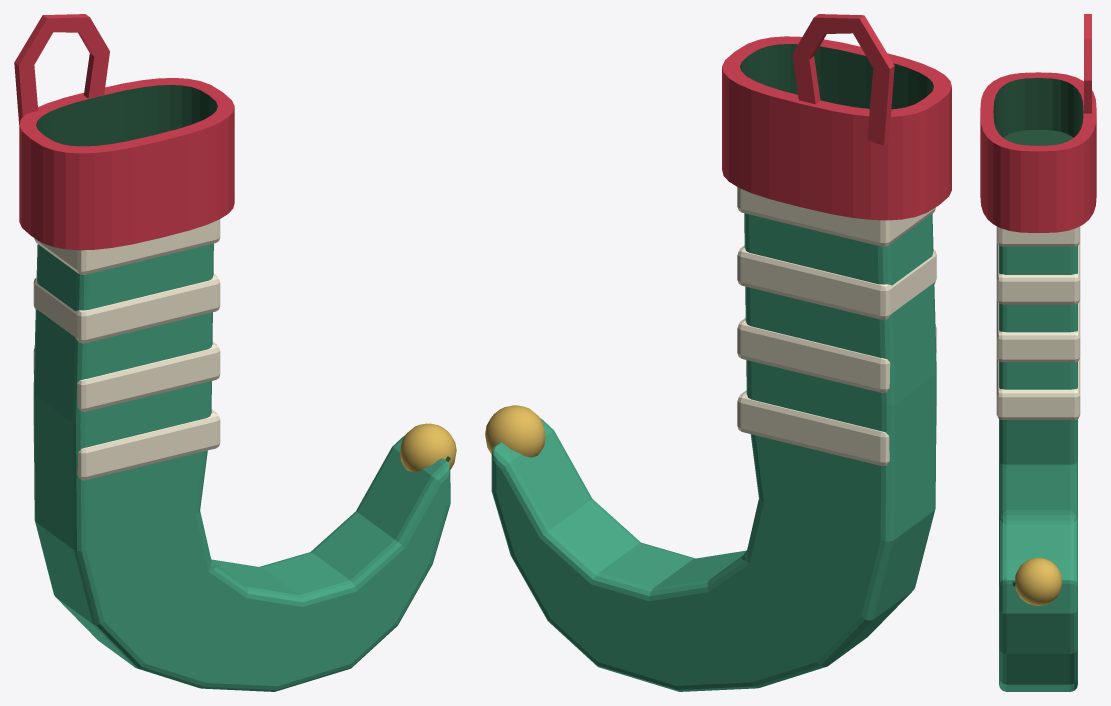
Rendered from christmas_stocking_striped_elf.glb.
3 renders of one model, left to right at view 1: azimuth 30°, elevation 25°; view 2: azimuth 150°, elevation 25°; view 3: azimuth 270°, elevation 25°, orthographic. The views are drawn at different scales.
Parts seen in each view (by area): view 1: ElfStocking_Curled_Toe_Body, ElfStocking_Open_Cuff, ElfStocking_Raised_Knit_Stripe.002, ElfStocking_Raised_Knit_Stripe.001, ElfStocking_Raised_Knit_Stripe, ElfStocking_Attached_Hanging_Loop, ElfStocking_Raised_Knit_Stripe.003, ElfStocking_Connected_Toe_Bell; view 2: ElfStocking_Curled_Toe_Body, ElfStocking_Open_Cuff, ElfStocking_Raised_Knit_Stripe.002, ElfStocking_Raised_Knit_Stripe.001, ElfStocking_Raised_Knit_Stripe, ElfStocking_Attached_Hanging_Loop, ElfStocking_Raised_Knit_Stripe.003, ElfStocking_Connected_Toe_Bell; view 3: ElfStocking_Curled_Toe_Body, ElfStocking_Open_Cuff, ElfStocking_Raised_Knit_Stripe, ElfStocking_Raised_Knit_Stripe.001, ElfStocking_Raised_Knit_Stripe.002, ElfStocking_Connected_Toe_Bell, ElfStocking_Raised_Knit_Stripe.003, ElfStocking_Recessed_Interior, ElfStocking_Attached_Hanging_Loop.
Part boxes in pixels (box(x1,y1,x2,y2)): ElfStocking_Curled_Toe_Body: box(33, 243, 450, 691); ElfStocking_Open_Cuff: box(19, 78, 234, 250); ElfStocking_Raised_Knit_Stripe.002: box(33, 274, 220, 343); ElfStocking_Raised_Knit_Stripe.001: box(33, 342, 220, 411); ElfStocking_Raised_Knit_Stripe: box(33, 409, 220, 480); ElfStocking_Attached_Hanging_Loop: box(14, 14, 109, 124); ElfStocking_Raised_Knit_Stripe.003: box(34, 219, 220, 274); ElfStocking_Connected_Toe_Bell: box(400, 423, 456, 472); ElfStocking_Curled_Toe_Body: box(491, 213, 936, 691); ElfStocking_Open_Cuff: box(722, 36, 951, 220); ElfStocking_Raised_Knit_Stripe.002: box(737, 245, 936, 319); ElfStocking_Raised_Knit_Stripe.001: box(737, 318, 936, 392); ElfStocking_Raised_Knit_Stripe: box(737, 390, 936, 465); ElfStocking_Attached_Hanging_Loop: box(792, 14, 894, 145); ElfStocking_Raised_Knit_Stripe.003: box(737, 187, 935, 246); ElfStocking_Connected_Toe_Bell: box(485, 405, 545, 457); ElfStocking_Curled_Toe_Body: box(999, 246, 1077, 691); ElfStocking_Open_Cuff: box(980, 72, 1096, 232); ElfStocking_Raised_Knit_Stripe: box(996, 357, 1080, 419); ElfStocking_Raised_Knit_Stripe.001: box(996, 300, 1080, 362); ElfStocking_Raised_Knit_Stripe.002: box(996, 242, 1080, 304); ElfStocking_Connected_Toe_Bell: box(1015, 558, 1062, 605); ElfStocking_Raised_Knit_Stripe.003: box(996, 226, 1080, 246); ElfStocking_Recessed_Interior: box(1003, 130, 1073, 145); ElfStocking_Attached_Hanging_Loop: box(1084, 14, 1091, 113).
Bounding box in the file's own units: 0.3459 × 0.535 × 0.098.
